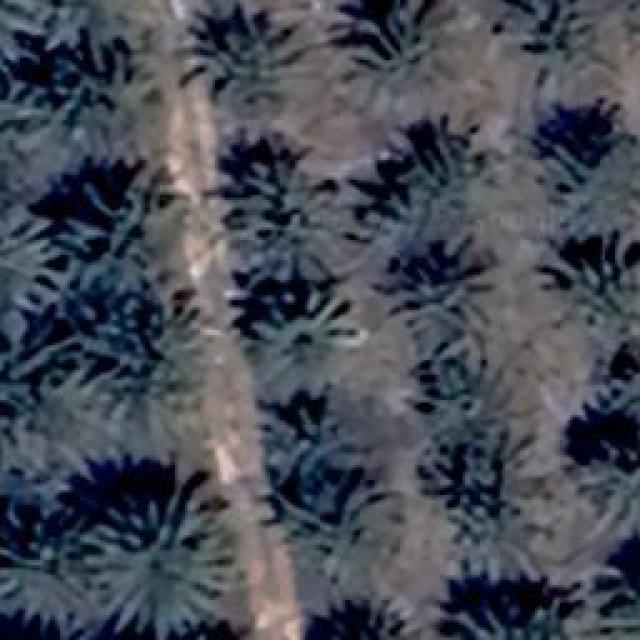PalmTree: (87, 482, 240, 636), (70, 300, 210, 428), (222, 155, 360, 283), (62, 166, 186, 286), (432, 448, 558, 556), (280, 468, 398, 578), (540, 114, 640, 236), (49, 42, 162, 148), (418, 341, 528, 444), (388, 247, 500, 335), (377, 132, 475, 232), (0, 512, 88, 622), (192, 15, 302, 103), (242, 288, 362, 368), (260, 390, 380, 468), (348, 5, 442, 89), (439, 580, 574, 636), (0, 205, 65, 313), (0, 314, 65, 418), (298, 593, 430, 640), (500, 0, 595, 65), (558, 245, 638, 320), (580, 437, 635, 535), (587, 549, 640, 640), (0, 78, 38, 182), (0, 0, 52, 70), (599, 333, 638, 422), (54, 0, 126, 36)
